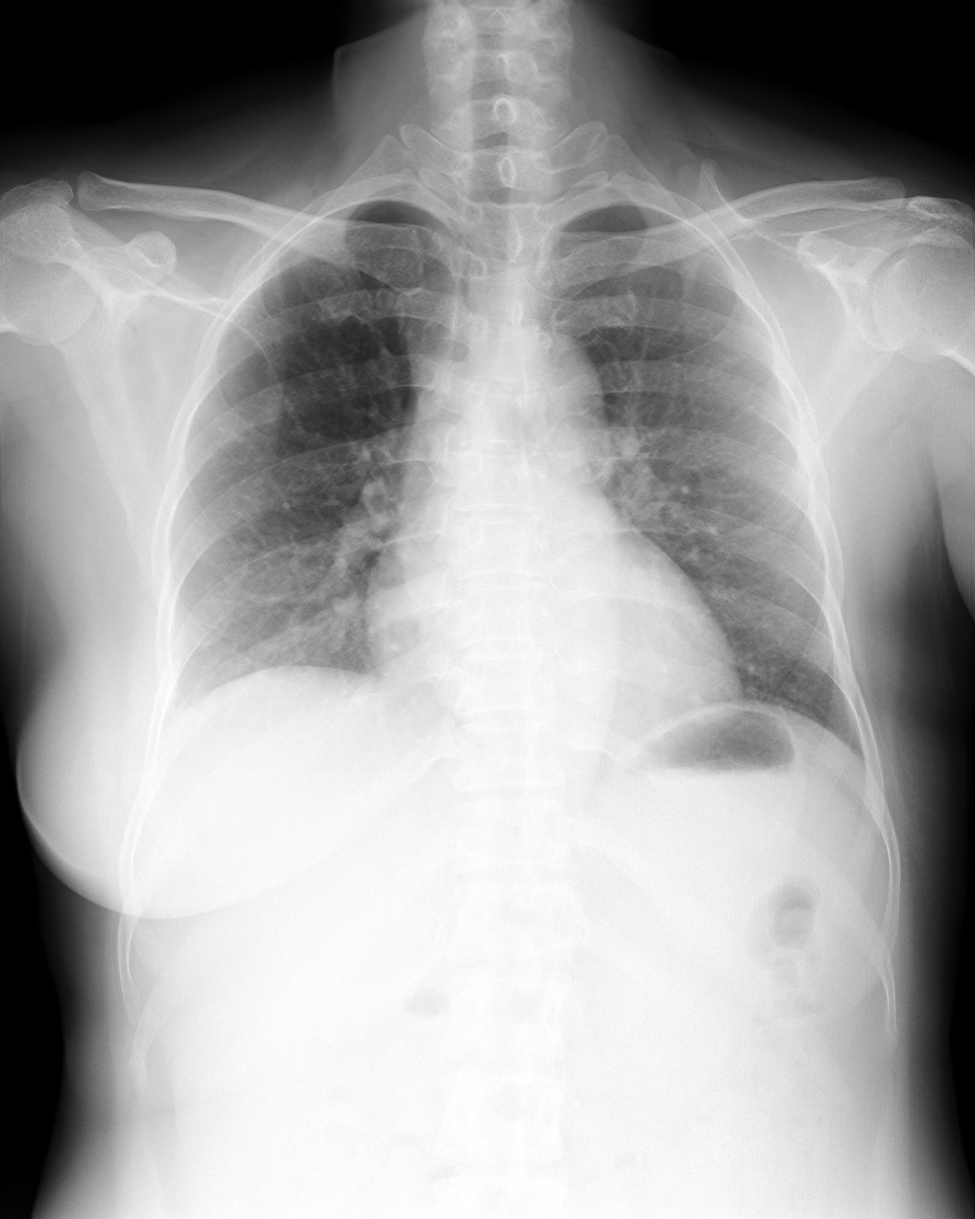Aortic enlargement: (500, 333, 609, 439)
Cardiomegaly: (362, 563, 741, 717)
